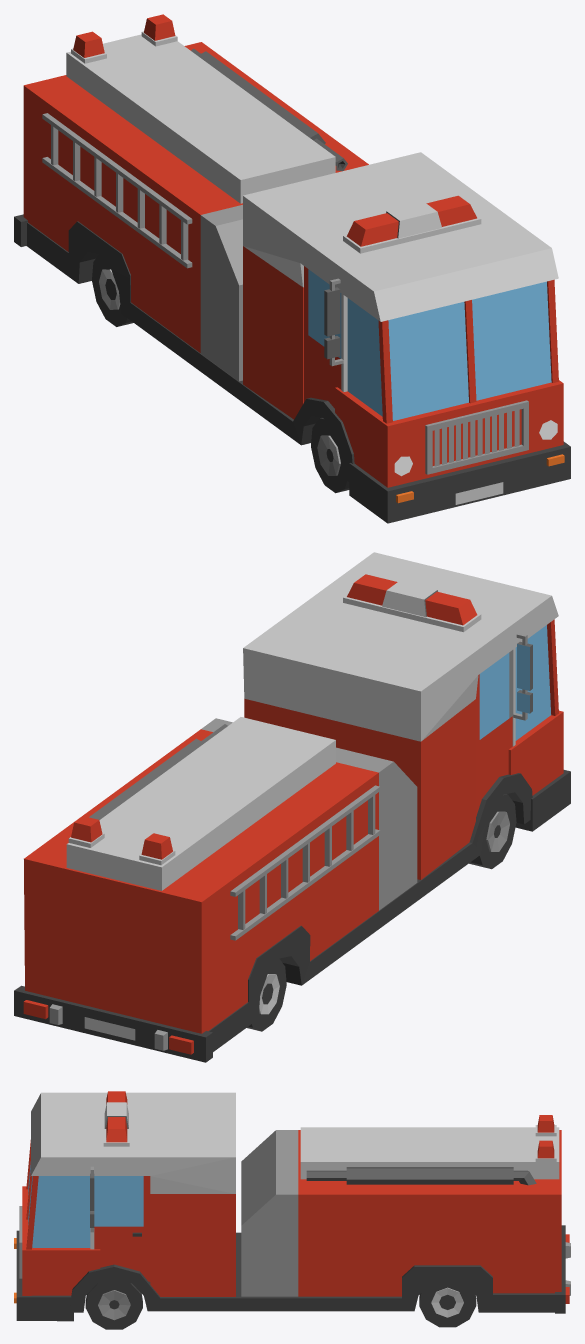
Rendered from Fire_Truck.fbx.
3 views of the same model, one above another, from view 1: azimuth 30°, elevation 25°; view 2: azimuth 150°, elevation 25°; view 3: azimuth 270°, elevation 25° (orthographic). The views are drawn at different scales.
Parts seen in each view (by area): view 1: Fire_Truck; view 2: Fire_Truck; view 3: Fire_Truck.
Boxes of the visible parts, x1,y1,x2,y2 form: Fire_Truck: (14,14,570,523); Fire_Truck: (14,552,570,1062); Fire_Truck: (14,1091,570,1329).
Bounding box in the file's own units: 1.01 × 1.2 × 3.19.
